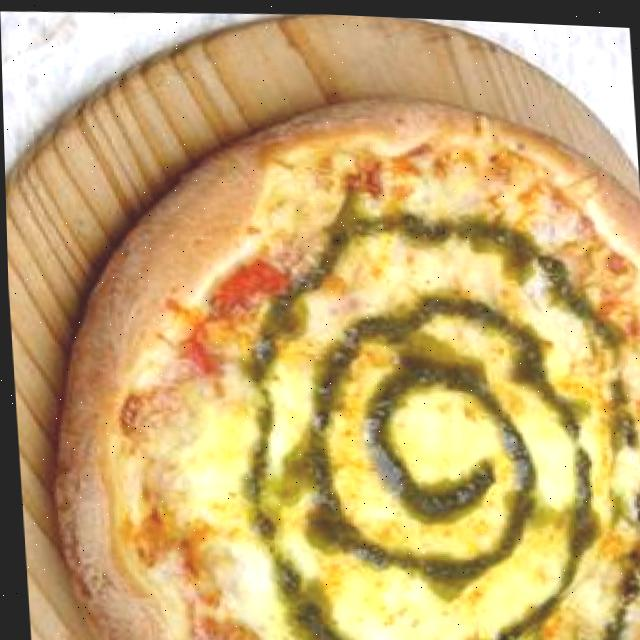汉堡快餐: (5, 57, 640, 640)
